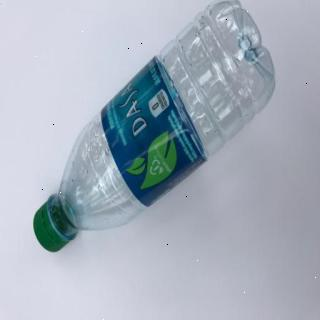Plastic-bottle: (31, 2, 280, 256)
